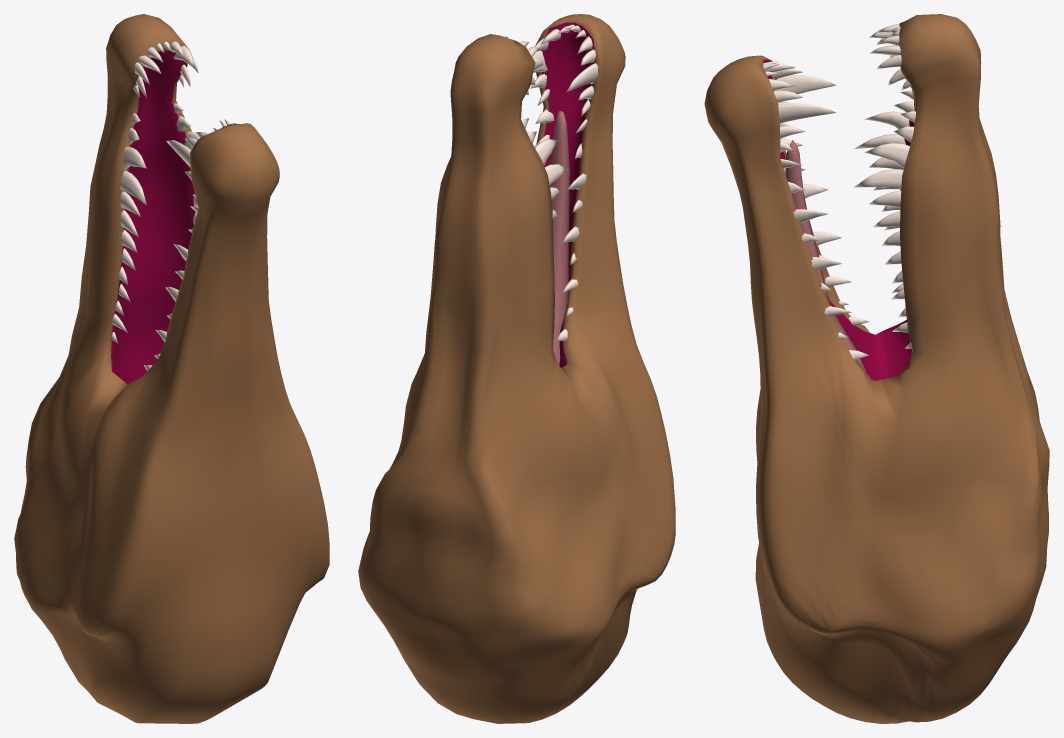
Rendered from Piscizaur.fbx.
The picture shows the model from 3 angles, left to right: view 1: azimuth 30°, elevation 25°; view 2: azimuth 150°, elevation 25°; view 3: azimuth 270°, elevation 25°; orthographic projection. The views are drawn at different scales.
Visible parts, largest first — view 1: Piscizaur - Poliostasis; view 2: Piscizaur - Poliostasis; view 3: Piscizaur - Poliostasis.
Part boxes in pixels (x1,y1,x2,y2): Piscizaur - Poliostasis: (14, 14, 329, 723); Piscizaur - Poliostasis: (358, 14, 675, 723); Piscizaur - Poliostasis: (704, 14, 1049, 723).
Bounding box in the file's own units: 55.63 × 156 × 70.44.
